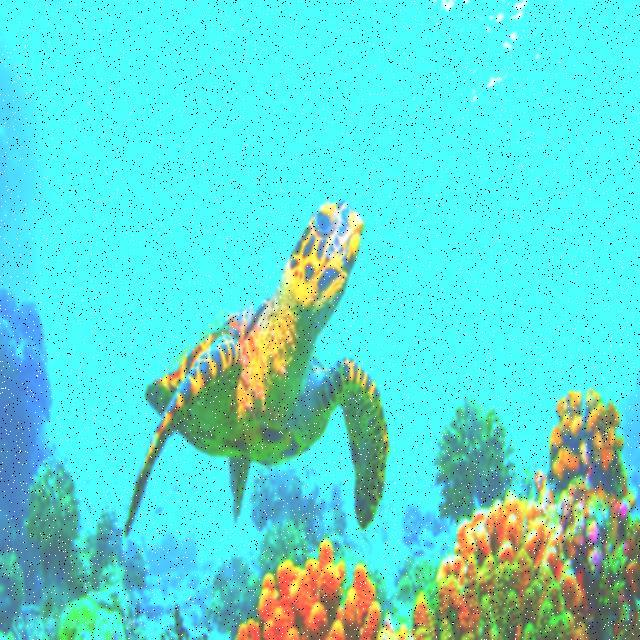tortoise: (120, 191, 386, 533)
